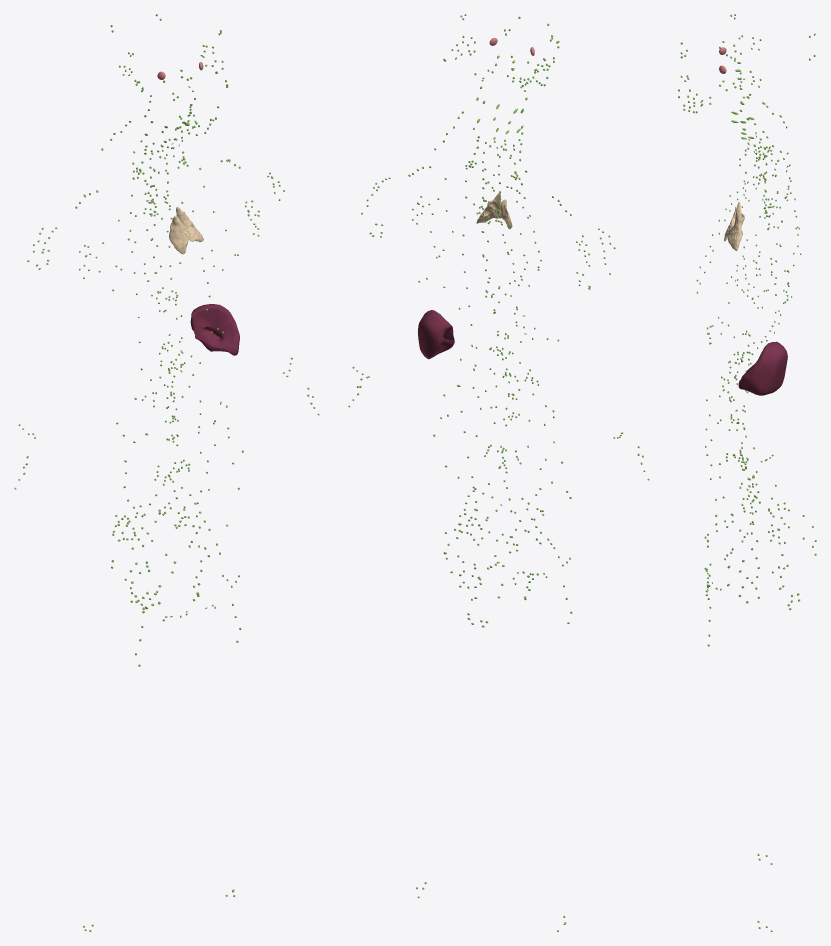
The model's file is female-lymphatic.glb.
3 renders of one model, left to right at view 1: azimuth 30°, elevation 25°; view 2: azimuth 150°, elevation 25°; view 3: azimuth 270°, elevation 25°, orthographic. The views are drawn at different scales.
Parts seen in each view (by area): view 1: Spleen; view 2: Spleen; view 3: Spleen, Left_lobe_of_thymus.
Part boxes in pixels (left/top/right/bottom): Spleen: left=190, top=304, right=239, bottom=355; Spleen: left=418, top=310, right=454, bottom=359; Spleen: left=738, top=341, right=787, bottom=395; Left_lobe_of_thymus: left=727, top=202, right=744, bottom=250.
Bounding box in the file's own units: 0.3718 × 1.03 × 0.1507.
